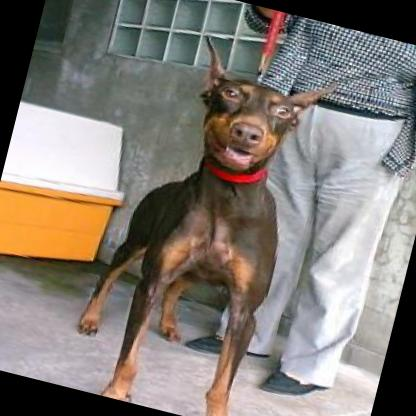Doberman: (59, 22, 339, 416)
